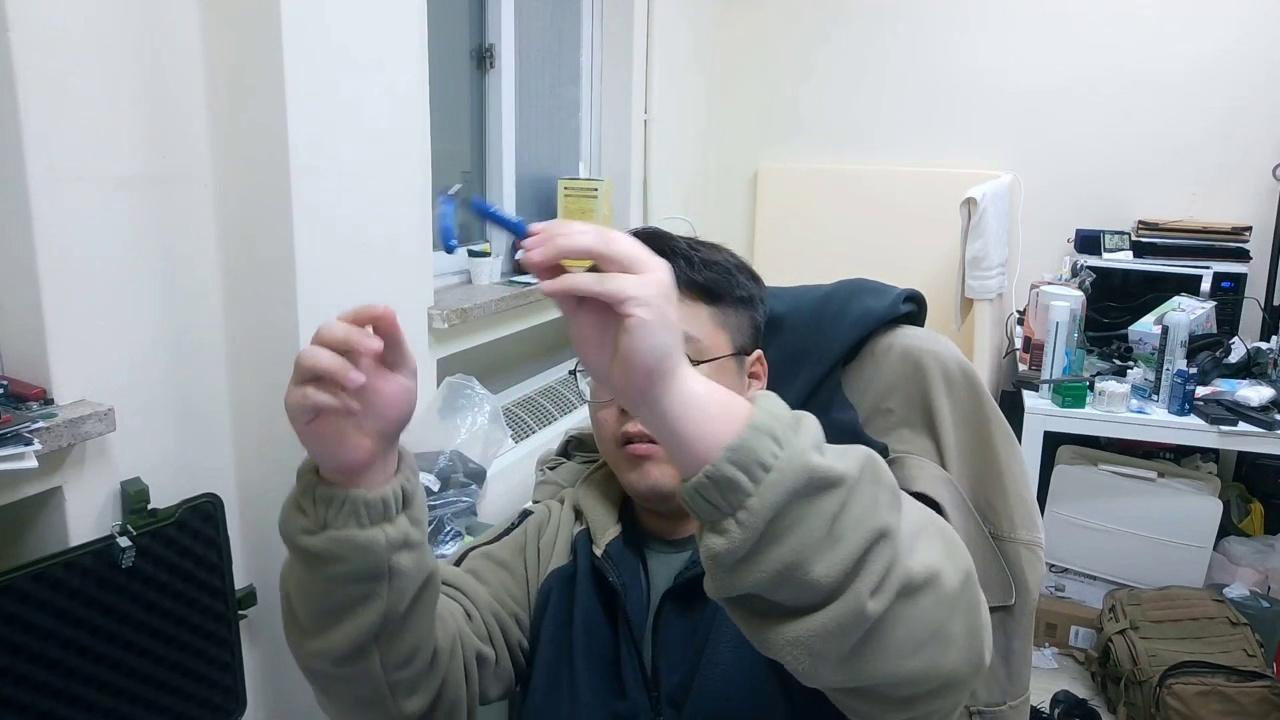blue_pliers: (436, 182, 597, 276)
